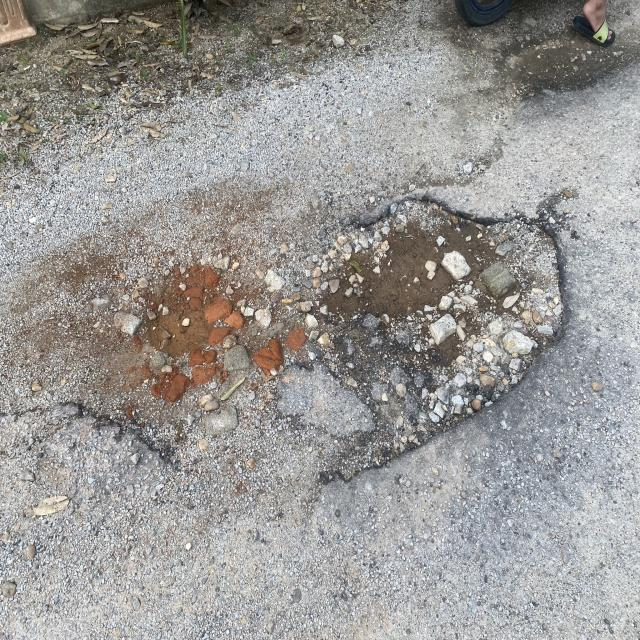pothole: (26, 177, 594, 523)
